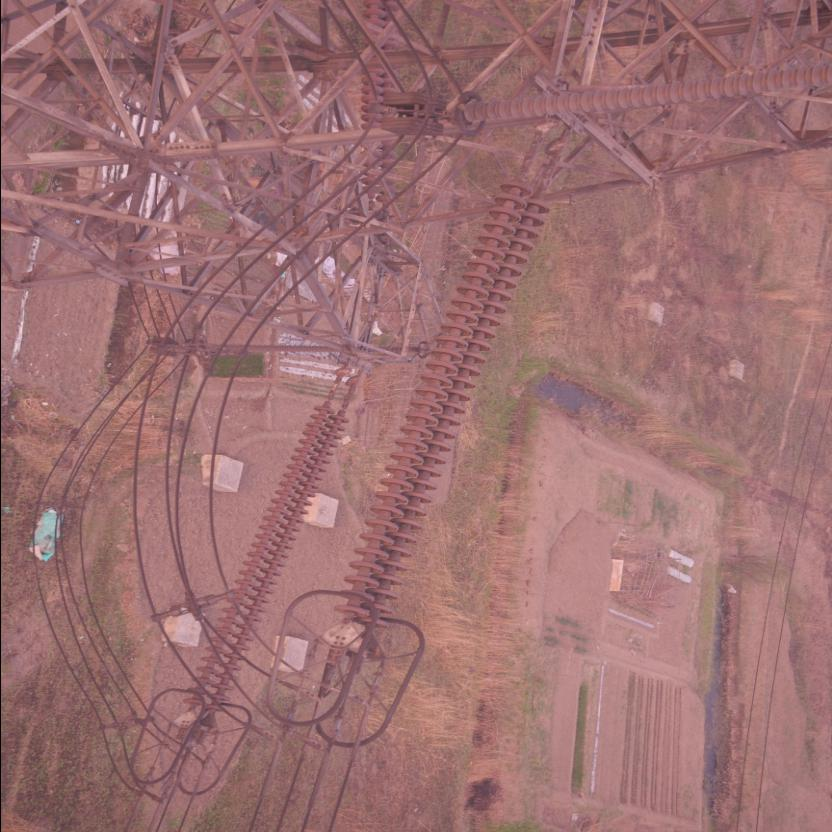insulator: (334, 154, 556, 634), (181, 380, 361, 722)
